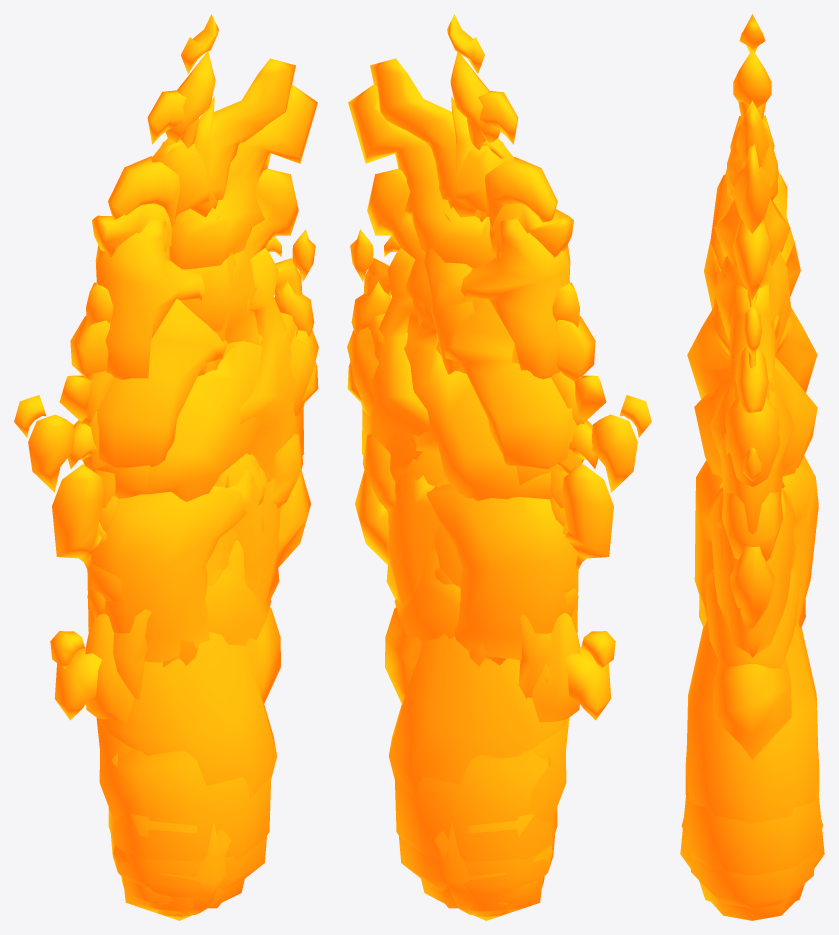
The model's file is fire_animation-transformed.glb.
3 renders of one model, left to right at view 1: azimuth 30°, elevation 25°; view 2: azimuth 150°, elevation 25°; view 3: azimuth 270°, elevation 25°, orthographic. The views are drawn at different scales.
Visible parts, largest first — view 1: flame01, flame02, flame04, flame03, flame16, flame15, flame17, flame13, flame14, flame05, flame06, flame11 (+4 smaller); view 2: flame01, flame02, flame03, flame04, flame16, flame15, flame17, flame13, flame14, flame05, flame11, flame06 (+4 smaller); view 3: flame02, flame03, flame01, flame04, flame15, flame16, flame14, flame13, flame17, flame05, flame09, flame06 (+1 smaller).
Part boxes in pixels (x1,y1,x2,y2): flame01: (91, 252, 271, 911); flame02: (98, 96, 277, 916); flame04: (90, 14, 296, 913); flame03: (88, 51, 303, 915); flame16: (67, 84, 317, 904); flame15: (85, 168, 318, 920); flame17: (59, 58, 318, 860); flame13: (14, 362, 281, 821); flame14: (87, 248, 304, 810); flame05: (82, 156, 314, 903); flame06: (70, 90, 315, 901); flame11: (52, 464, 217, 908); flame01: (394, 248, 577, 911); flame02: (388, 96, 567, 916); flame03: (362, 52, 577, 915); flame04: (369, 14, 575, 914); flame16: (348, 84, 598, 905); flame15: (347, 168, 580, 920); flame17: (347, 58, 606, 861); flame13: (384, 362, 651, 821); flame14: (362, 248, 578, 810); flame05: (351, 157, 583, 903); flame11: (448, 464, 613, 908); flame06: (350, 90, 595, 895); flame02: (686, 100, 818, 823); flame03: (687, 49, 817, 920); flame01: (685, 250, 819, 875); flame04: (690, 14, 814, 908); flame15: (714, 219, 790, 486); flame16: (680, 144, 824, 916); flame14: (710, 283, 794, 534); flame13: (709, 487, 794, 654); flame17: (681, 104, 823, 838); flame05: (699, 115, 805, 627); flame09: (710, 886, 801, 920); flame06: (738, 102, 765, 356).
Bounding box in the file's own units: 1.67 × 4.72 × 0.6701.
